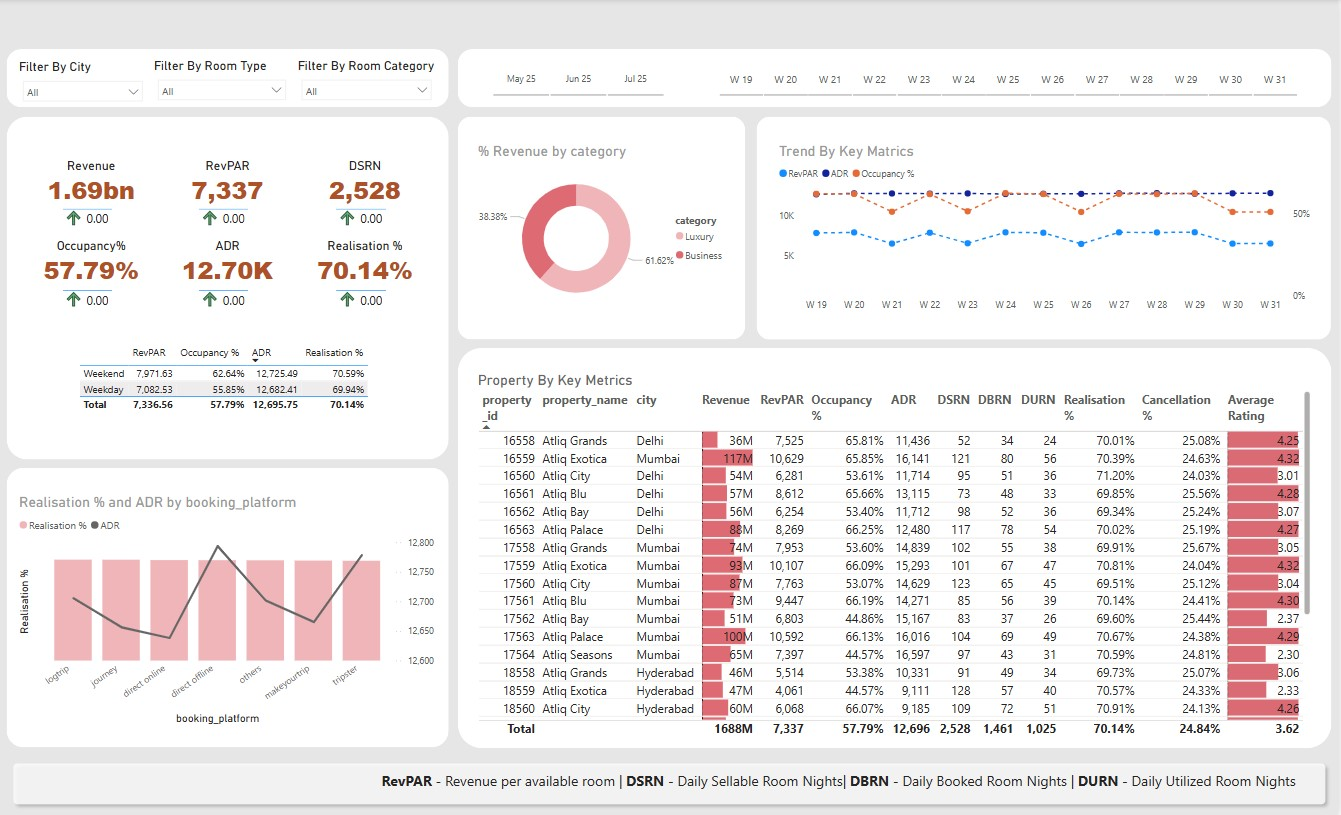

What the dashboard file says about the page in this screenshot:
{"tool":"powerbi","page":{"name":"Hospitality_Dashboard","canvas":[1800,1100],"ordinal":0},"visuals":[{"type":"shape","box":[616,468,1174.7,538.7],"z":0},{"type":"shape","box":[9.3,630.7,594.7,376],"z":1000},{"type":"shape","box":[1018.7,158.7,772,300],"z":2000},{"type":"shape","box":[616,158.7,386.7,300],"z":3000},{"type":"shape","box":[9.3,158.7,594.7,461.3],"z":4000},{"type":"shape","box":[616,68,1174.7,78.7],"z":5000},{"type":"shape","box":[9.3,68,594.7,78.7],"z":6000},{"type":"tableEx","title":"Revenue","fields":{"Values":["Measure_Table.Revenue WoW change %"]},"box":[446.9,357.1,89,63],"z":7000},{"type":"tableEx","title":"Revenue","fields":{"Values":["Measure_Table.Revenue WoW change %"]},"box":[262.6,357.1,89,63],"z":8000},{"type":"tableEx","title":"Revenue","fields":{"Values":["Measure_Table.Revenue WoW change %"]},"box":[78.6,357.1,89,63],"z":9000},{"type":"tableEx","title":"Revenue","fields":{"Values":["Measure_Table.Revenue WoW change %"]},"box":[446.9,249.1,89,63],"z":10000},{"type":"tableEx","title":"Property By Key Metrics","fields":{"Values":["dim_hotels.property_id","dim_hotels.property_name","dim_hotels.city","Measure_Table.Revenue","Measure_Table.RevPAR","Measure_Table.Occupancy %","Measure_Table.ADR","Measure_Table.DSRN","Measure_Table.DBRN","Measure_Table.DURN","Measure_Table.Realisation %","Measure_Table.Cancellation %"]},"box":[638.7,500,1129.3,496],"z":11000},{"type":"slicer","title":"Filter By City","fields":{"Values":["dim_hotels.city"]},"box":[22.7,80,181.3,57.3],"z":12000},{"type":"slicer","title":"Filter By Room Type","fields":{"Values":["dim_rooms.room_class"]},"box":[204,78.7,192,57.3],"z":13000},{"type":"slicer","fields":{"Values":["dim_date.mmm yy"]},"box":[638.7,78.7,278.7,57.3],"z":14000},{"type":"slicer","fields":{"Values":["dim_date.week no"]},"box":[942.7,78.7,825.3,57.3],"z":15000},{"type":"tableEx","title":"Revenue","fields":{"Values":["Measure_Table.Revenue WoW change %"]},"box":[78.6,249.1,89,63],"z":16000},{"type":"card","title":"Revenue","fields":{"Values":["Measure_Table.Revenue"]},"box":[31.1,213.1,184,68],"z":17000},{"type":"donutChart","title":"% Revenue by category","fields":{"Category":["dim_hotels.category"],"Y":["Measure_Table.Revenue"]},"box":[638.7,193.3,349.3,236],"z":18000},{"type":"card","title":"DSRN","fields":{"Values":["Measure_Table.DSRN"]},"box":[399.4,213.1,184,68],"z":19000},{"type":"card","title":"Occupancy%","fields":{"Values":["Measure_Table.Occupancy %"]},"box":[31.1,321.1,184,68],"z":20000},{"type":"tableEx","title":"Revenue","fields":{"Values":["Measure_Table.Revenue WoW change %"]},"box":[262.6,249.1,89,63],"z":21000},{"type":"card","title":"ADR","fields":{"Values":["Measure_Table.ADR"]},"box":[215.1,321.1,184,68],"z":22000},{"type":"card","title":"Realisation %","fields":{"Values":["Measure_Table.Realisation %"]},"box":[399.4,321.1,184,68],"z":23000},{"type":"card","title":"RevPAR","fields":{"Values":["Measure_Table.RevPAR"]},"box":[215.1,213.1,184,68],"z":24000},{"type":"lineChart","title":"Trend By Key Matrics","fields":{"Category":["dim_date.mmm yy.Variation.Date Hierarchy.Month","dim_date.week no"],"Y":["Measure_Table.RevPAR","Measure_Table.ADR"],"Y2":["Measure_Table.Occupancy %"]},"box":[1044,193.3,724,236],"z":25000},{"type":"tableEx","fields":{"Values":["dim_date.day_type","Measure_Table.RevPAR","Measure_Table.Occupancy %","Measure_Table.ADR","Measure_Table.Realisation %"]},"box":[102.7,458.7,406.7,110.7],"z":26000},{"type":"lineClusteredColumnComboChart","fields":{"Category":["fact_bookings.booking_platform"],"Y":["Measure_Table.Realisation %"],"Y2":["Measure_Table.ADR"]},"box":[22.7,665.3,568,314.7],"z":27000},{"type":"shape","box":[9.3,1017.3,1781.3,73.3],"z":28000},{"type":"textbox","box":[509.3,1033.3,1258.7,42.7],"z":29000},{"type":"slicer","title":"Filter By Room Category","fields":{"Values":["fact_bookings.room_category"]},"box":[396,78.7,194.7,57.3],"z":30000}]}

Visuals, with their boxes in screenshot pixels (x1, y1, x2, y2), scaled from the page's 1800x1100 canvas onto the 1341x815 screenshot:
shape: 459,347,1334,746
shape: 7,467,450,746
shape: 759,118,1334,340
shape: 459,118,747,340
shape: 7,118,450,459
shape: 459,50,1334,109
shape: 7,50,450,109
"Revenue" tableEx: 333,265,399,311
"Revenue" tableEx: 196,265,262,311
"Revenue" tableEx: 59,265,125,311
"Revenue" tableEx: 333,185,399,231
"Property By Key Metrics" tableEx: 476,370,1317,738
"Filter By City" slicer: 17,59,152,102
"Filter By Room Type" slicer: 152,58,295,101
slicer - dim_date.mmm yy: 476,58,683,101
slicer - dim_date.week no: 702,58,1317,101
"Revenue" tableEx: 59,185,125,231
"Revenue" card: 23,158,160,208
"% Revenue by category" donutChart: 476,143,736,318
"DSRN" card: 298,158,435,208
"Occupancy%" card: 23,238,160,288
"Revenue" tableEx: 196,185,262,231
"ADR" card: 160,238,297,288
"Realisation %" card: 298,238,435,288
"RevPAR" card: 160,158,297,208
"Trend By Key Matrics" lineChart: 778,143,1317,318
tableEx - dim_date.day_type x Measure_Table.RevPAR: 77,340,380,422
lineClusteredColumnComboChart - fact_bookings.booking_platform x Measure_Table.Realisation %: 17,493,440,726
shape: 7,754,1334,808
textbox: 379,766,1317,797
"Filter By Room Category" slicer: 295,58,440,101
